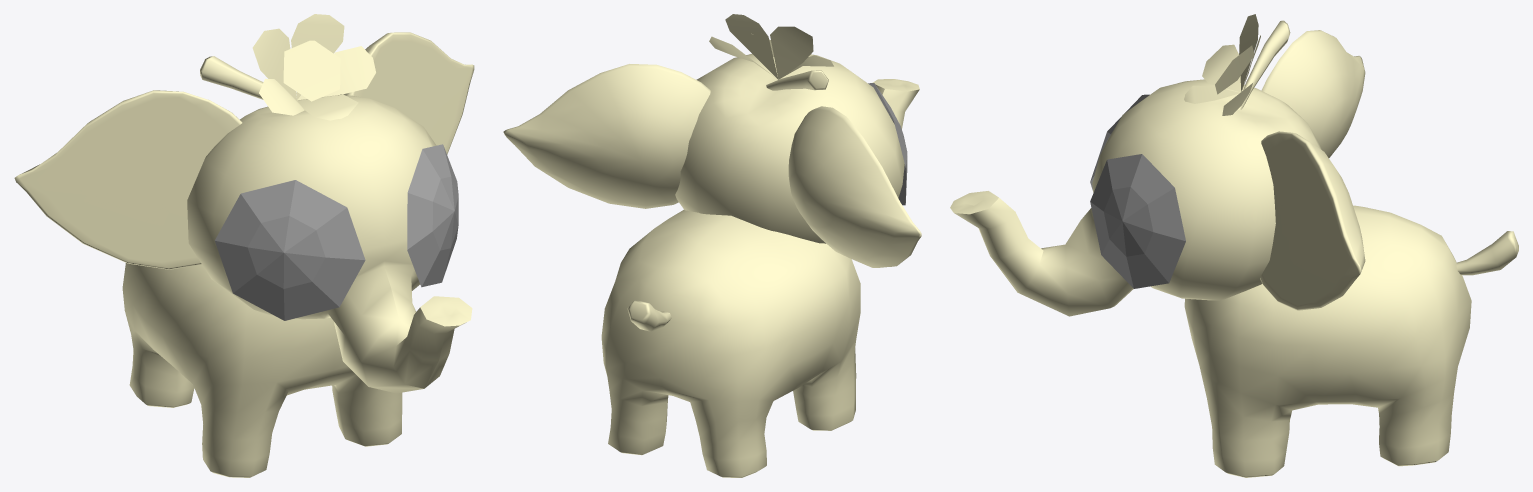
Rendered from MESH_AppleElephant03.fbx.
The picture shows the model from 3 angles, left to right: view 1: azimuth 30°, elevation 25°; view 2: azimuth 150°, elevation 25°; view 3: azimuth 270°, elevation 25°; orthographic projection. The views are drawn at different scales.
Parts seen in each view (by area): view 1: polySurface18, polySurface20, polySurface12, pasted__pSphere1, pPlane10, polySurface16; view 2: polySurface12, polySurface20, polySurface18, pPlane10, polySurface14, polySurface16, pasted__pSphere1; view 3: polySurface12, polySurface18, polySurface20, pasted__pSphere1, pPlane10, polySurface14, polySurface16.
Part boxes in pixels (x1,y1,x2,y2): polySurface18: [187, 95, 472, 393]; polySurface20: [14, 32, 474, 269]; polySurface12: [122, 263, 402, 477]; pasted__pSphere1: [214, 144, 458, 320]; pPlane10: [252, 14, 375, 120]; polySurface16: [200, 56, 298, 100]; polySurface12: [601, 210, 860, 477]; polySurface20: [503, 64, 921, 267]; polySurface18: [675, 54, 919, 243]; pPlane10: [709, 14, 833, 79]; polySurface14: [627, 300, 671, 331]; polySurface16: [766, 70, 828, 90]; pasted__pSphere1: [868, 83, 907, 205]; polySurface12: [1184, 205, 1471, 477]; polySurface18: [950, 79, 1321, 316]; polySurface20: [1260, 30, 1365, 310]; pasted__pSphere1: [1090, 94, 1185, 288]; pPlane10: [1184, 14, 1260, 115]; polySurface14: [1456, 231, 1518, 275]; polySurface16: [1238, 20, 1290, 109].
Bounding box in the file's own units: 17.86 × 15.92 × 20.07.
